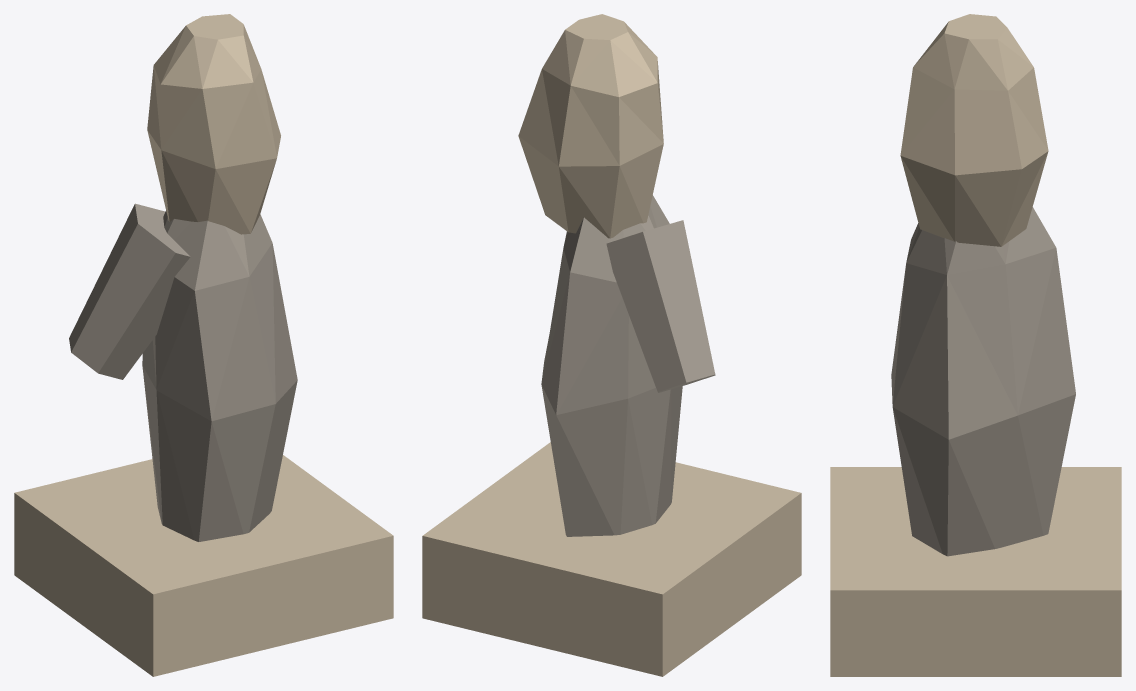
Rendered from aq_sunken_statue.fbx.
3 views of the same model, side by side, from view 1: azimuth 30°, elevation 25°; view 2: azimuth 150°, elevation 25°; view 3: azimuth 270°, elevation 25° (orthographic). The views are drawn at different scales.
Visible parts, largest first — view 1: aq_sunken_statue; view 2: aq_sunken_statue; view 3: aq_sunken_statue.
Boxes of the visible parts, bbox=[...] form: aq_sunken_statue: bbox=[14, 14, 393, 676]; aq_sunken_statue: bbox=[422, 14, 801, 676]; aq_sunken_statue: bbox=[830, 14, 1121, 676].
Size of the model in its own units: 0.8 by 1.8 by 0.8.
